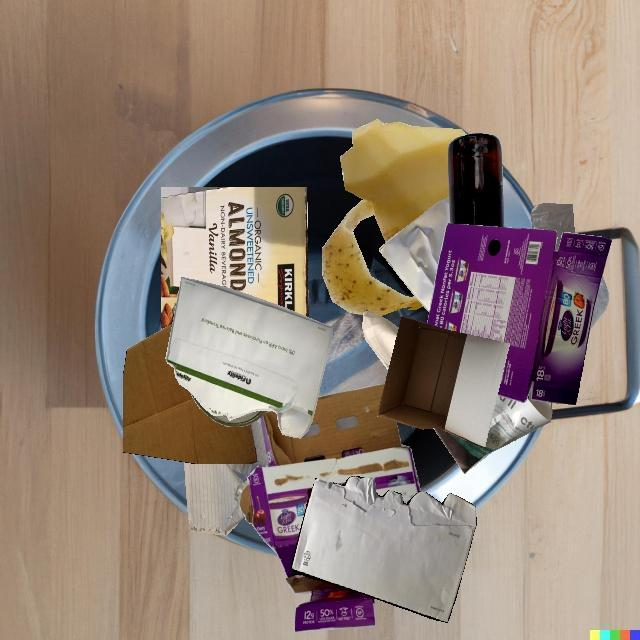biowaste: (322, 119, 467, 316)
cardboard: (239, 384, 421, 632), (427, 223, 612, 405), (161, 187, 308, 330), (123, 324, 257, 464), (377, 316, 510, 447)
glass: (448, 133, 504, 227), (190, 392, 267, 427)
paper: (291, 476, 477, 623), (166, 277, 332, 438), (433, 384, 553, 474), (184, 420, 268, 535), (379, 198, 450, 312), (362, 311, 399, 370)
plastic: (531, 203, 575, 251), (590, 275, 609, 329)
